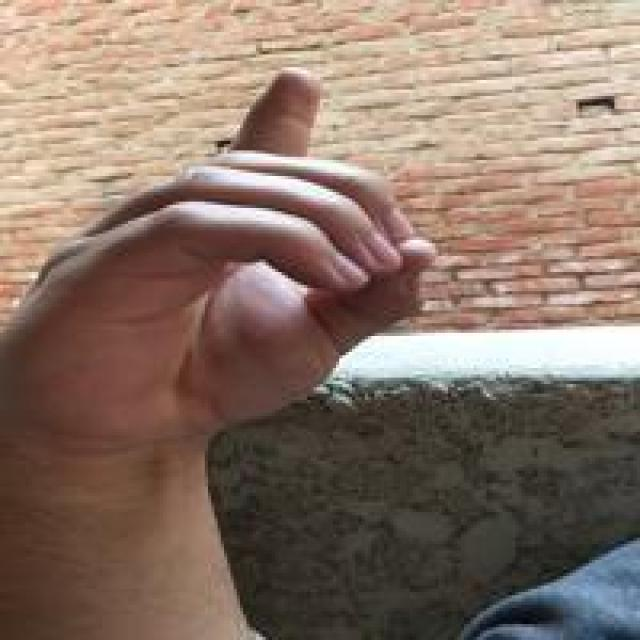D: (9, 66, 442, 456)
